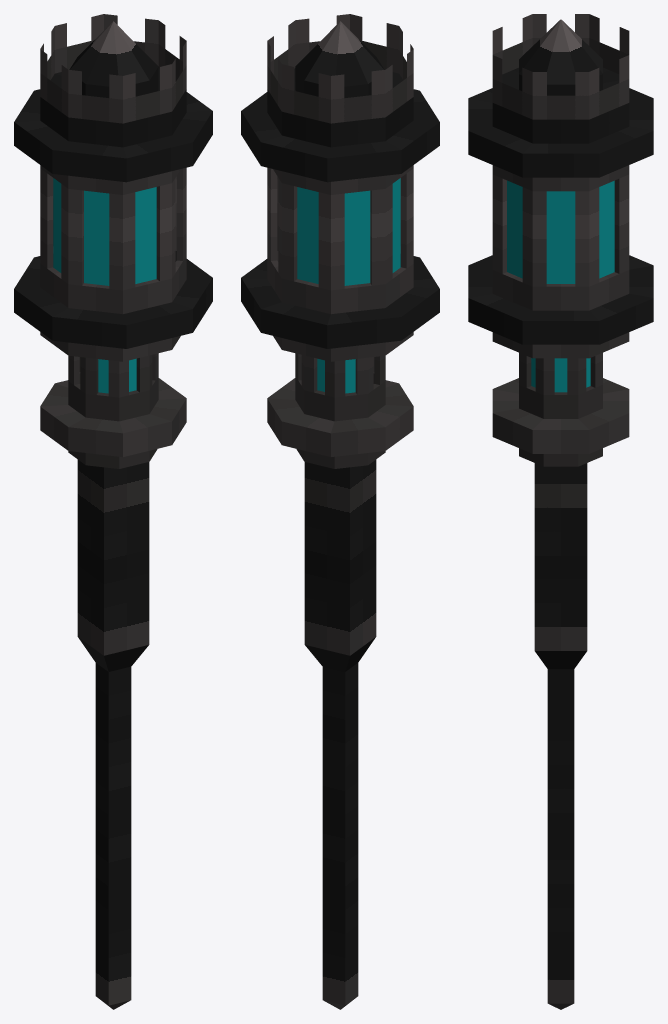
File: staffofcalling_main.obj
3 renders of one model, left to right at view 1: azimuth 30°, elevation 25°; view 2: azimuth 150°, elevation 25°; view 3: azimuth 270°, elevation 25°, orthographic.
Parts seen in each view (by area): view 1: STAFF_Cylinder.009; view 2: STAFF_Cylinder.009; view 3: STAFF_Cylinder.009.
Part boxes in pixels (x1,y1,x2,y2): STAFF_Cylinder.009: (14,14,212,1009); STAFF_Cylinder.009: (241,14,439,1009); STAFF_Cylinder.009: (468,14,653,1009).
Size of the model in its own units: 0.4403 by 2.59 by 0.4403.
